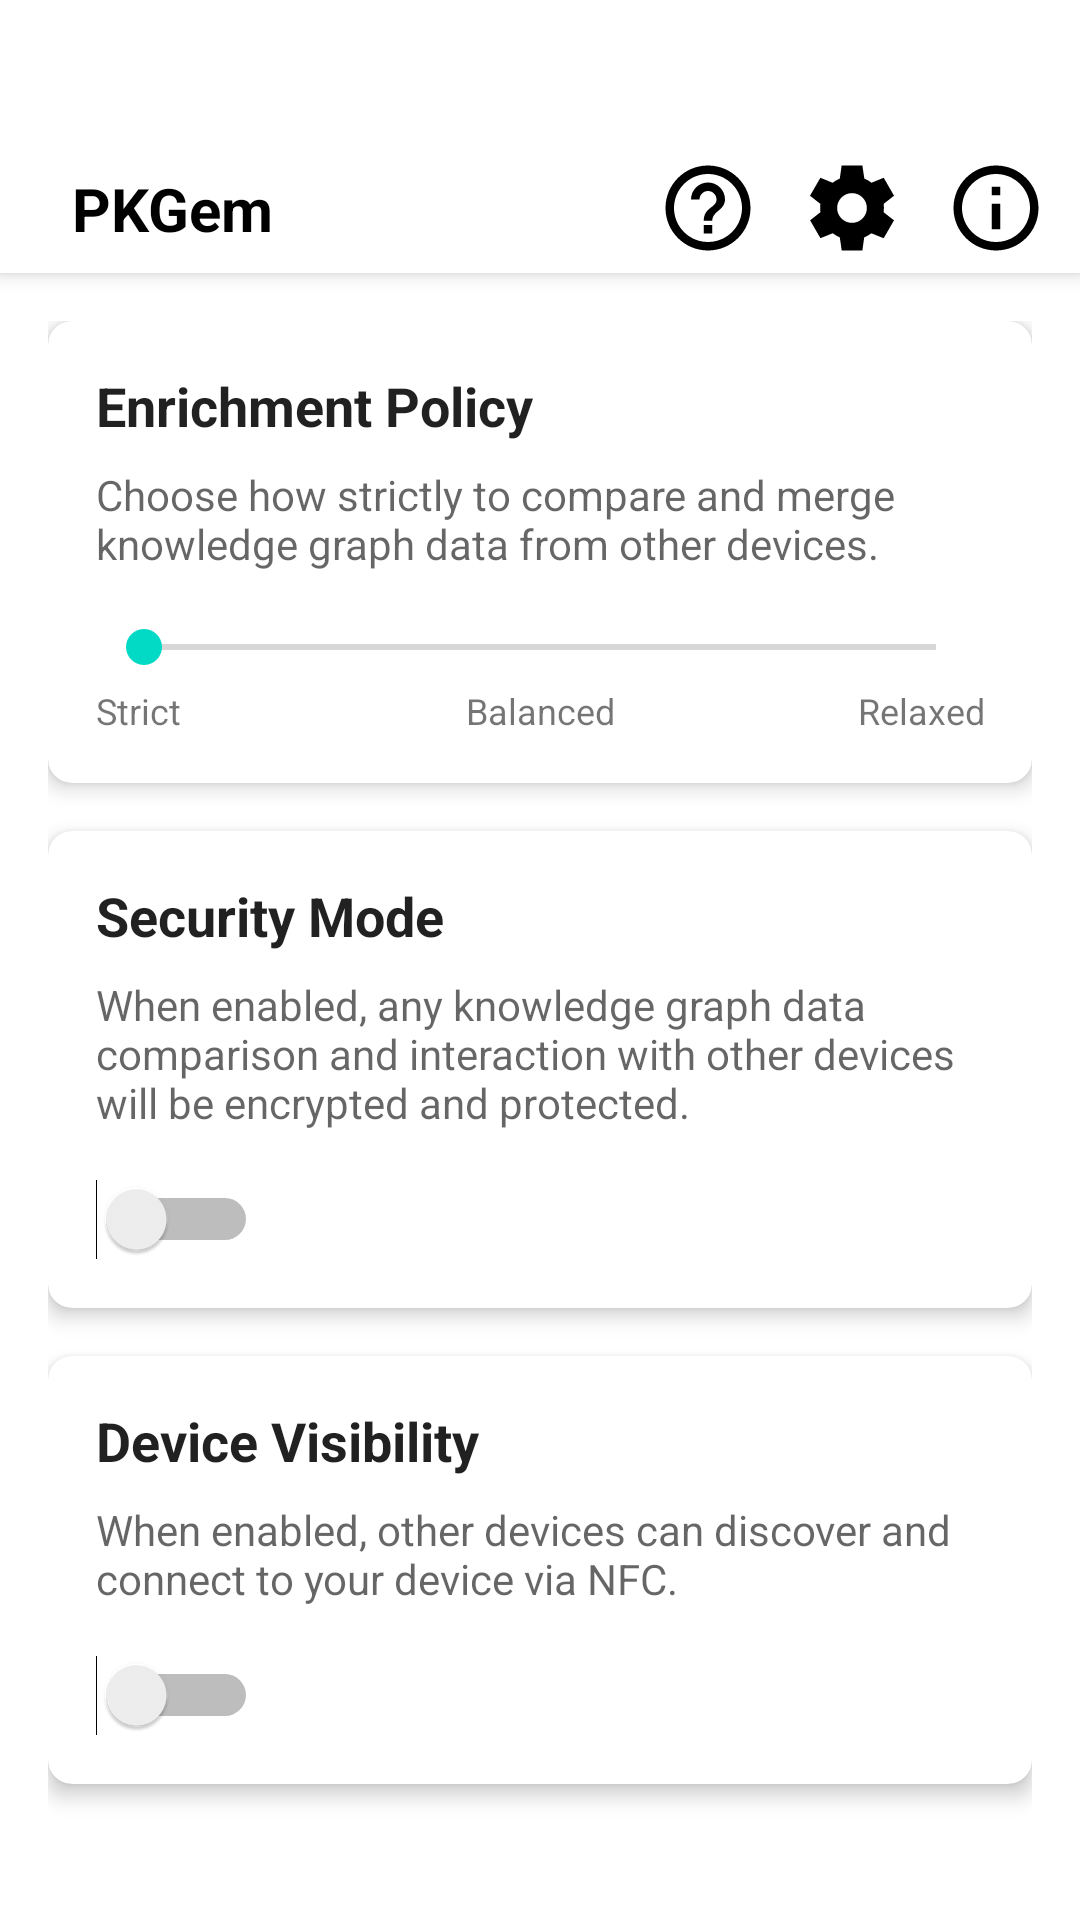

Named icons in this screenshot (1080px x 1920px) and their centers, [x,y]:
Help: [708,208]
Info: [996,208]
Settings: [852,208]
